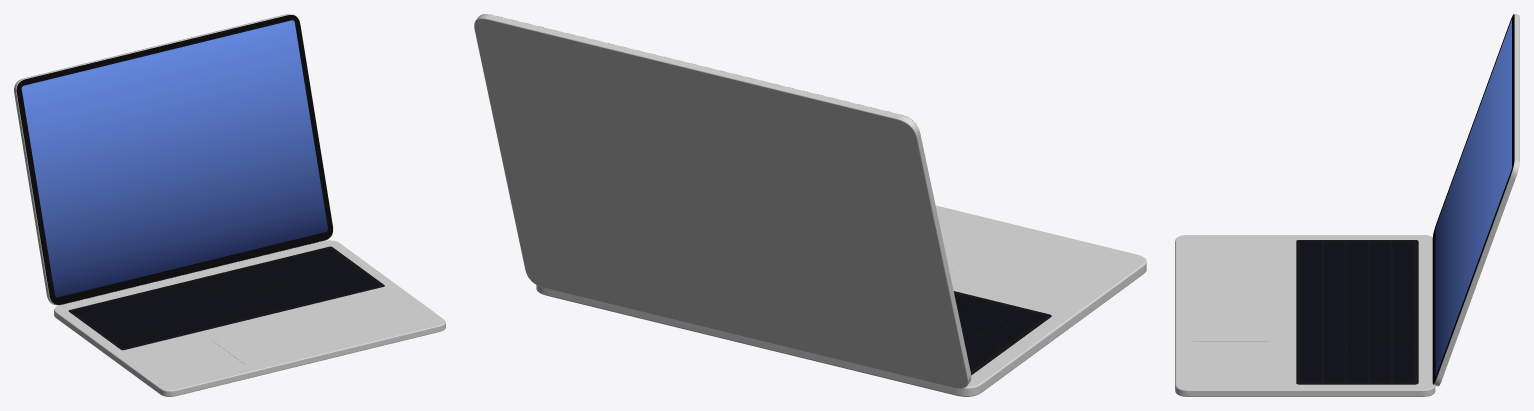
Rendered from APL-MBA13M4.glb.
3 renders of one model, left to right at view 1: azimuth 30°, elevation 25°; view 2: azimuth 150°, elevation 25°; view 3: azimuth 270°, elevation 25°, orthographic. The views are drawn at different scales.
Visible parts, largest first — view 1: screen, base, keys, bezel, trackpad, keyboard, lid; view 2: lid, base, keys, trackpad, keyboard; view 3: base, keys, screen, trackpad, keyboard, lid, bezel.
Boxes of the visible parts, left/top/right/bottom form: screen: left=21, top=20, right=327, bottom=297; base: left=54, top=240, right=445, bottom=396; keys: left=73, top=248, right=380, bottom=347; bezel: left=16, top=15, right=332, bottom=304; trackpad: left=212, top=313, right=352, bottom=364; keyboard: left=68, top=246, right=384, bottom=350; lid: left=14, top=14, right=333, bottom=305; lid: left=474, top=14, right=971, bottom=388; base: left=536, top=205, right=1146, bottom=396; keys: left=954, top=293, right=1044, bottom=370; trackpad: left=938, top=217, right=1001, bottom=272; keyboard: left=953, top=291, right=1051, bottom=375; base: left=1175, top=235, right=1435, bottom=396; keys: left=1300, top=241, right=1413, bottom=382; screen: left=1435, top=20, right=1511, bottom=376; trackpad: left=1193, top=282, right=1271, bottom=341; keyboard: left=1296, top=240, right=1418, bottom=384; lid: left=1433, top=14, right=1519, bottom=386; bezel: left=1432, top=14, right=1514, bottom=384.
Bounding box in the file's own units: 0.3041 × 0.2113 × 0.2847.
